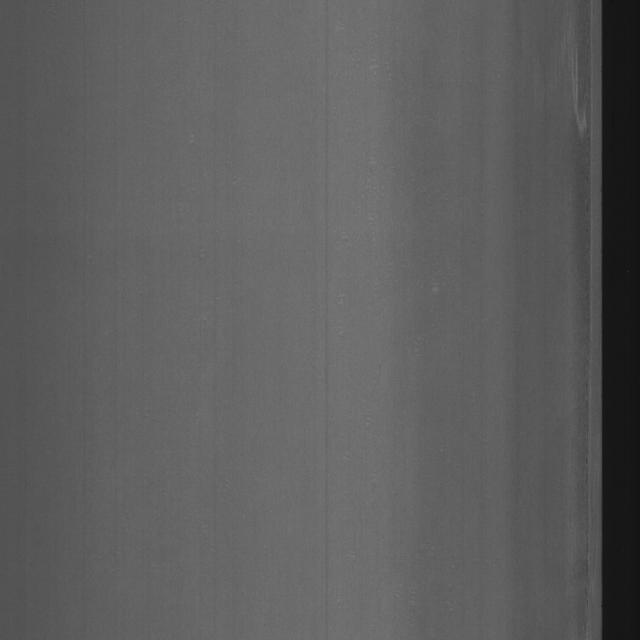inclusion: (554, 22, 599, 150)
